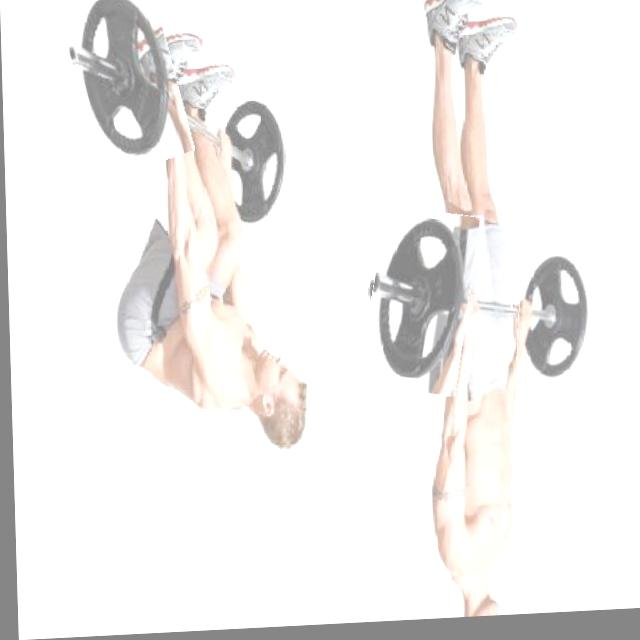barbell: (362, 211, 477, 402), (68, 1, 185, 176), (514, 256, 595, 399)
